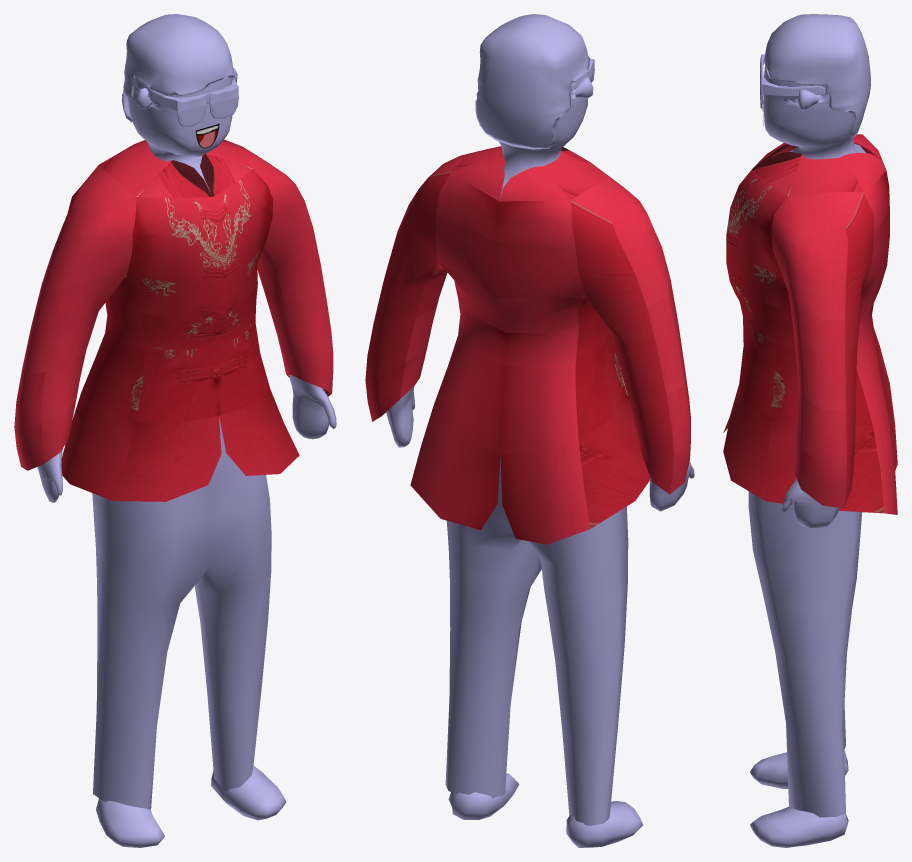
Rendered from avatar(3).fbx.
3 views of the same model, side by side, from view 1: azimuth 30°, elevation 25°; view 2: azimuth 150°, elevation 25°; view 3: azimuth 270°, elevation 25° (orthographic). The views are drawn at different scales.
Parts seen in each view (by area): view 1: Cube.001, Cube.002, Cube, Cube.003, Cube.004, Cube.005; view 2: Cube.001, Cube.002, Cube.003, Cube, Cube.004; view 3: Cube.001, Cube.002, Cube.003, Cube, Cube.004, Cube.005.
Boxes of the visible parts, x1,y1,x2,y2 form: Cube.001: (14, 139, 333, 501); Cube.002: (92, 416, 271, 809); Cube: (37, 68, 336, 502); Cube.003: (122, 14, 234, 122); Cube.004: (96, 765, 286, 847); Cube.005: (135, 77, 239, 126); Cube.001: (365, 146, 690, 544); Cube.002: (445, 458, 628, 825); Cube.003: (475, 14, 589, 149); Cube: (386, 76, 694, 511); Cube.004: (448, 773, 642, 847); Cube.001: (723, 134, 897, 514); Cube.002: (748, 491, 862, 817); Cube.003: (763, 14, 870, 138); Cube: (763, 65, 865, 528); Cube.004: (750, 751, 848, 847); Cube.005: (760, 54, 825, 108).
Size of the model in its own units: 118 by 595 by 244.
